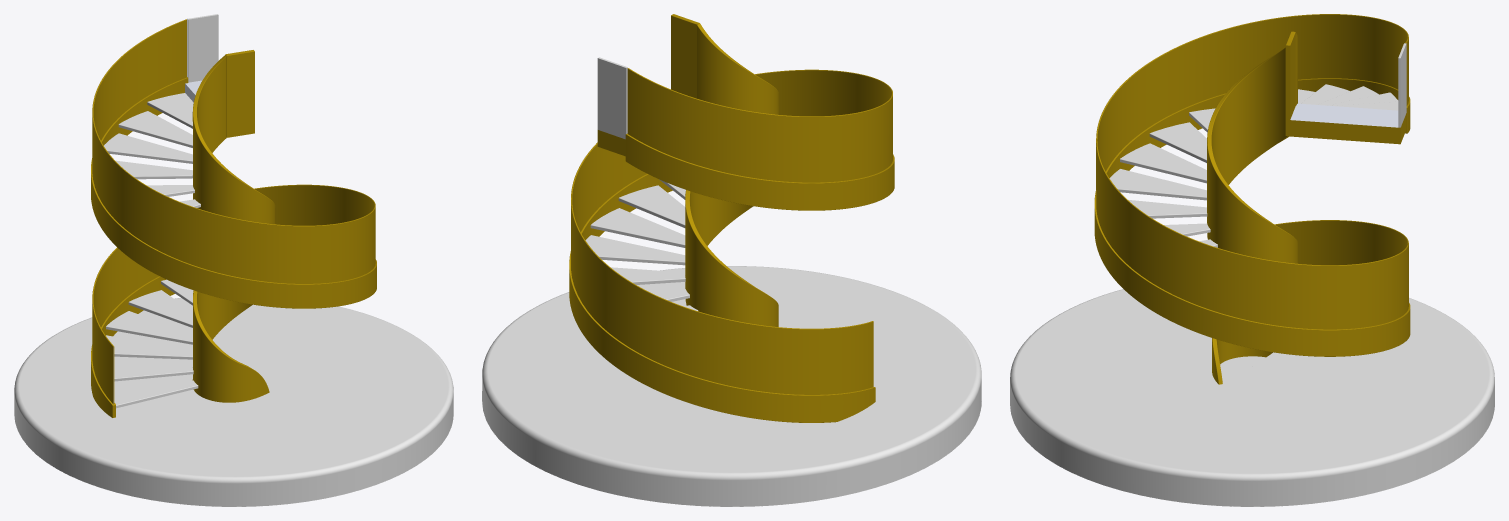
3 views of the same model, side by side, from view 1: azimuth 30°, elevation 25°; view 2: azimuth 150°, elevation 25°; view 3: azimuth 270°, elevation 25° (orthographic). The views are drawn at different scales.
Visible parts, largest first — view 1: currentmodel.wrl.cleaner.materialmerger.gles; view 2: currentmodel.wrl.cleaner.materialmerger.gles; view 3: currentmodel.wrl.cleaner.materialmerger.gles.
Boxes of the visible parts, box(x1,y1,x2,y2) form: currentmodel.wrl.cleaner.materialmerger.gles: box(14, 14, 453, 506); currentmodel.wrl.cleaner.materialmerger.gles: box(482, 14, 981, 506); currentmodel.wrl.cleaner.materialmerger.gles: box(1010, 14, 1494, 506).
Bounding box in the file's own units: 426544 × 367494 × 426654.
